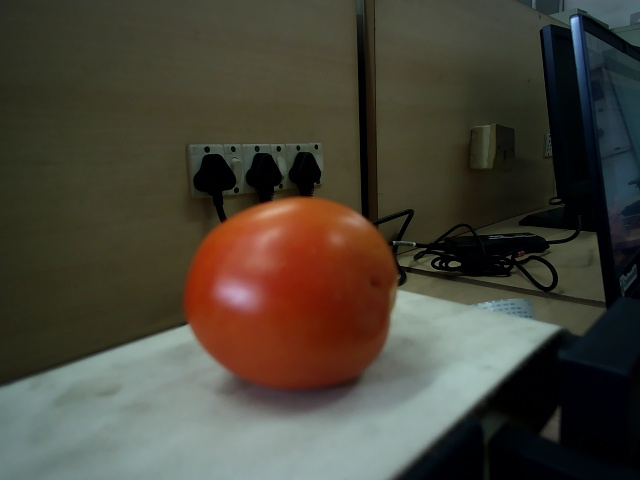Tomato: (182, 196, 401, 391)
